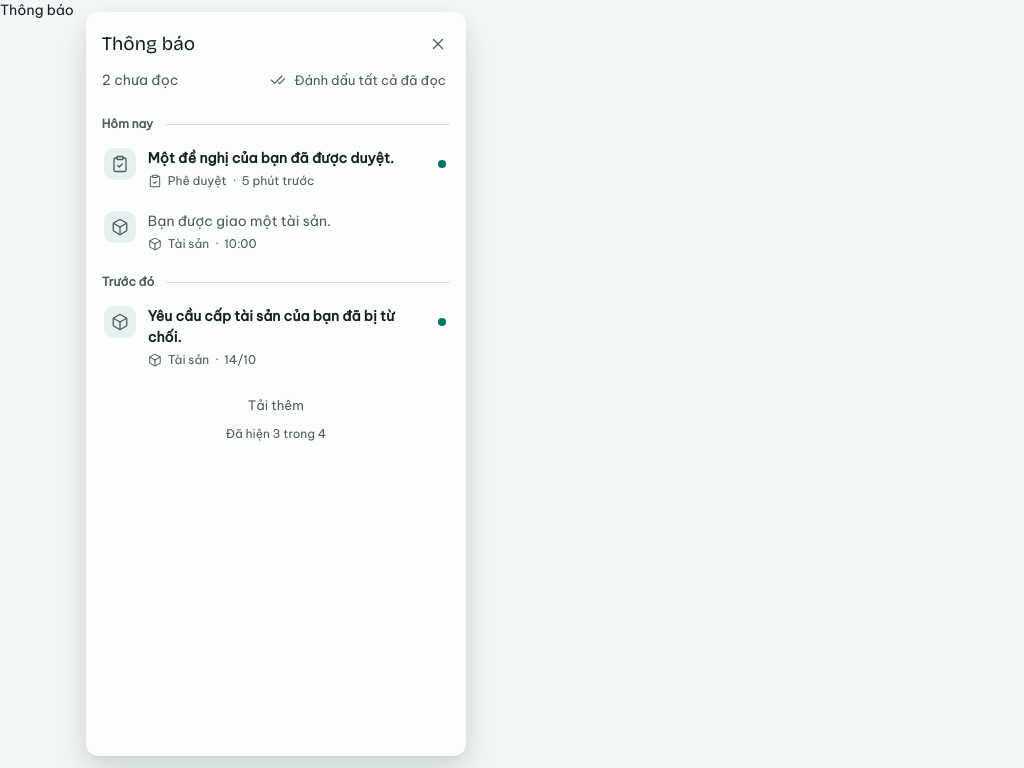
NotificationPanel › pages 25 at a time: Tải thêm and "Đã hiện X trong Y"
Expected: the text "Đã hiện 3 trong 4" is shown, [225, 426, 326, 442]
Click the button "Tải thêm": (276, 405) [236, 390, 316, 420]
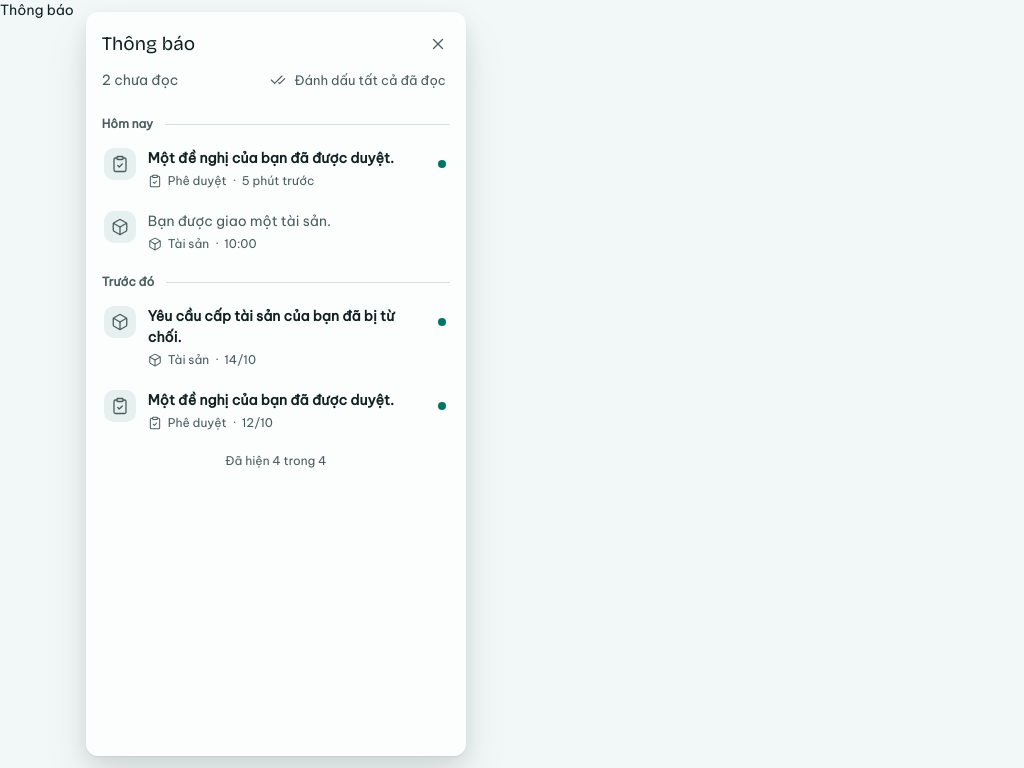
Expected: the text "Đã hiện 4 trong 4" is shown, [225, 453, 326, 469]
Expected: the button "Tải thêm" is gone
